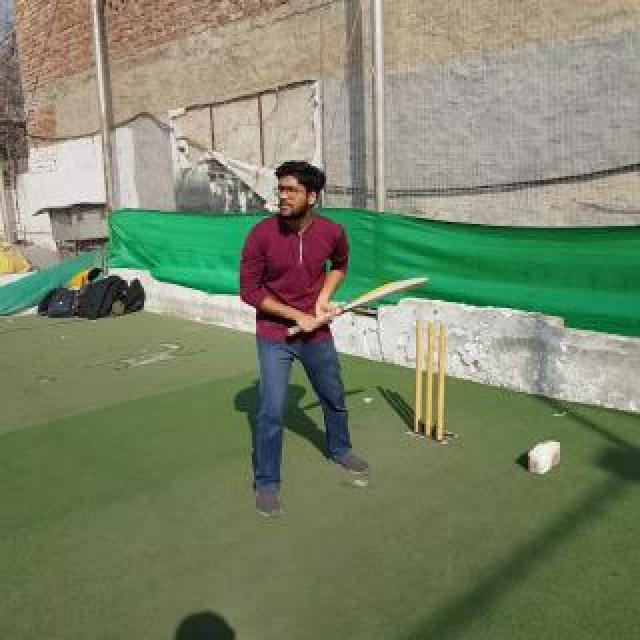bat: (286, 278, 430, 338)
